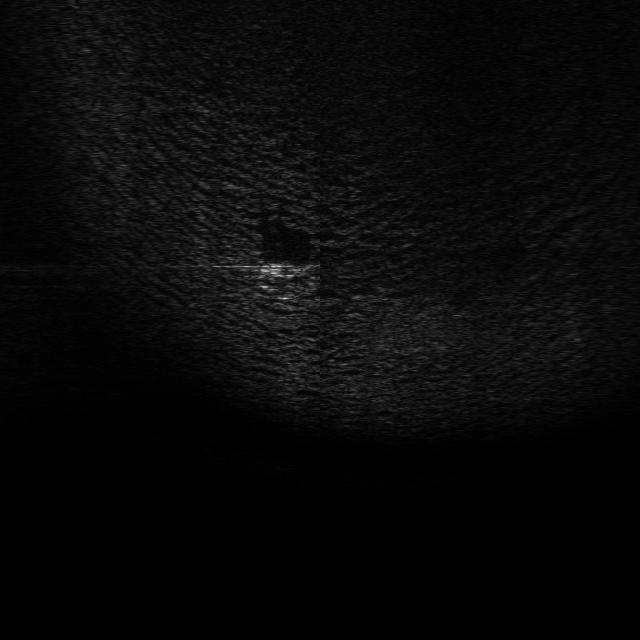plane: (260, 259, 320, 282)
